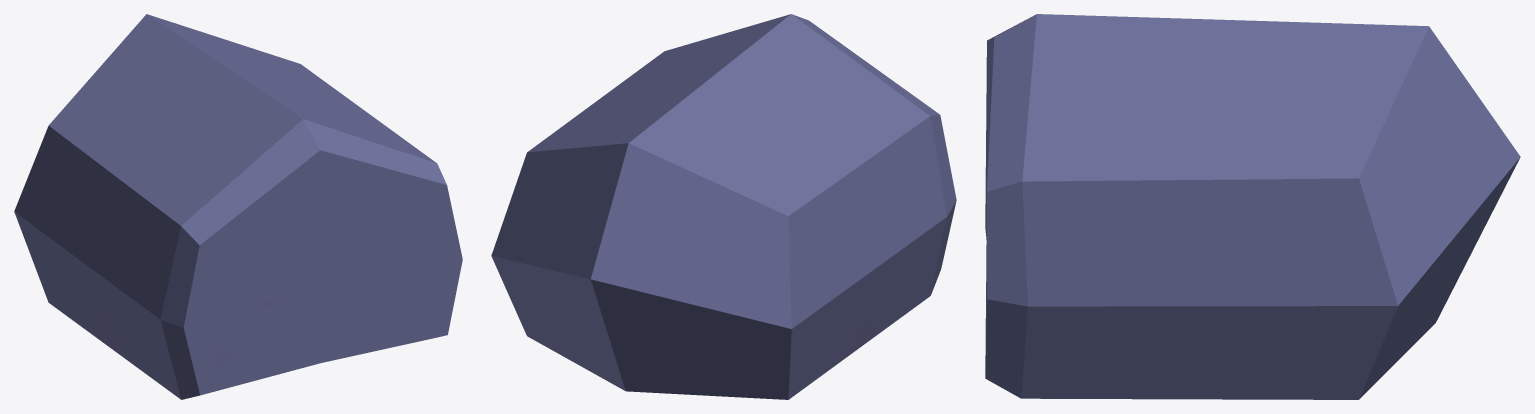
Rendered from beetle_corpse_lower_body.glb.
The picture shows the model from 3 angles, left to right: view 1: azimuth 30°, elevation 25°; view 2: azimuth 150°, elevation 25°; view 3: azimuth 270°, elevation 25°; orthographic projection. The views are drawn at different scales.
Visible parts, largest first — view 1: BeetleCorpseLowerBody; view 2: BeetleCorpseLowerBody; view 3: BeetleCorpseLowerBody.
Part boxes in pixels (box(x1,y1,x2,y2)): BeetleCorpseLowerBody: box(14, 14, 462, 399); BeetleCorpseLowerBody: box(491, 14, 956, 399); BeetleCorpseLowerBody: box(985, 14, 1520, 399).
Size of the model in its own units: 0.5194 by 0.4186 by 0.6571.
1 material, 1 textured.
